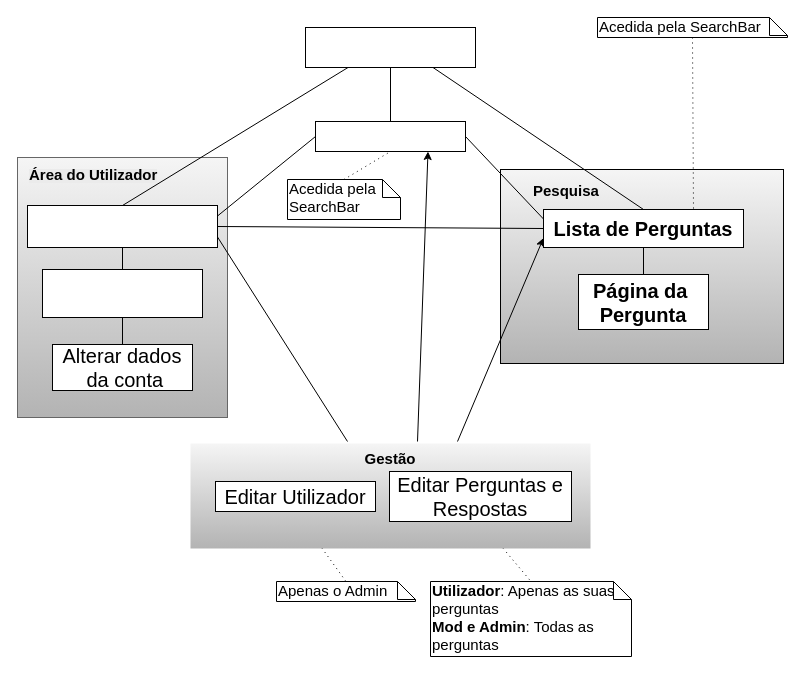
Some shapes in this 805 by 674 pixel diagram are drawn without their labels. Here are the shapes that lost their labels. From the top down, the centre of each, then its label:
point 390,47: Página Principal
point 390,136: Criar Pergunta
point 122,226: Perfil do Utilizador
point 122,293: Configurações de conta
